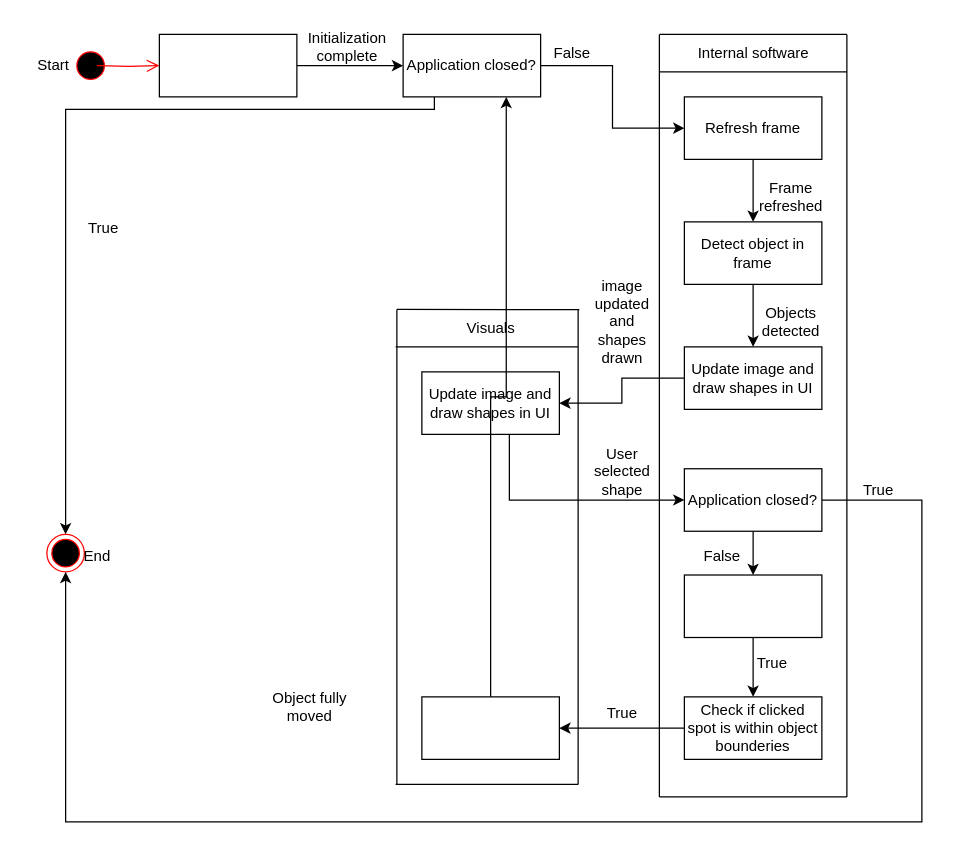
The diagram is 954 pixels wide and 854 high, and some of its shapes have lost their labels. The shapes that lost their labels are listed below. From the top down, each one's centre as x and y in pixels, then its label:
point 227,65: Whole program initiazition
point 752,606: Check if user clicked screen
point 490,727: Move the object
